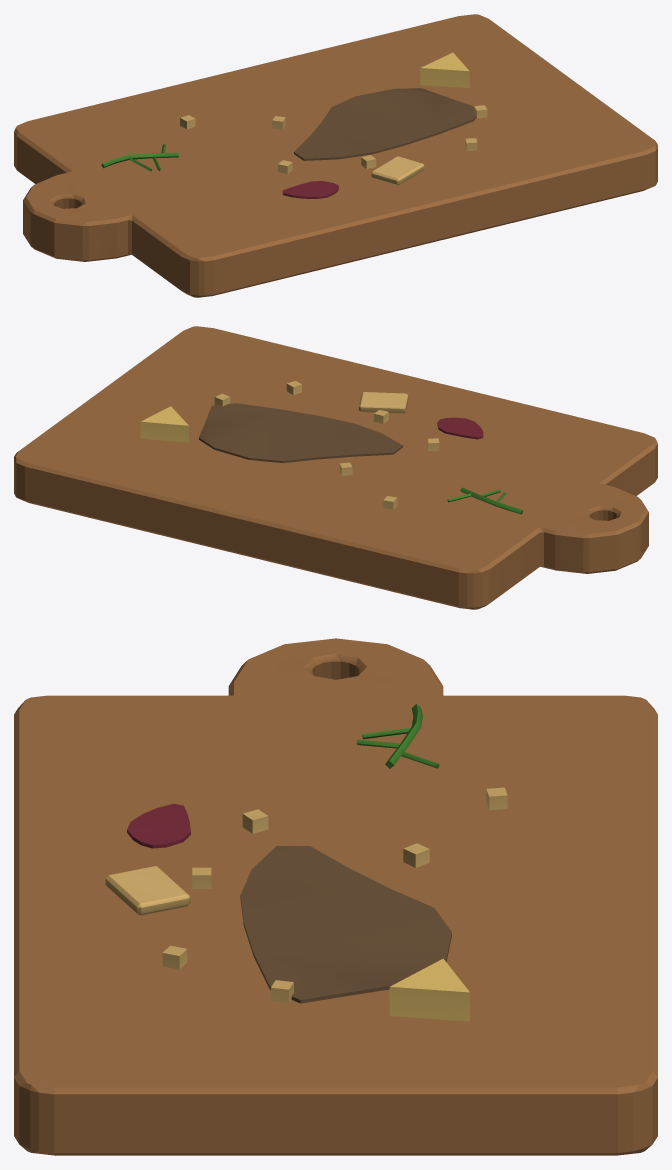
File: boardDirty.glb
The picture shows the model from 3 angles, top to bottom: view 1: azimuth 30°, elevation 25°; view 2: azimuth 150°, elevation 25°; view 3: azimuth 270°, elevation 25°; orthographic projection. The views are drawn at different scales.
Visible parts, largest first — view 1: boardDirty; view 2: boardDirty; view 3: boardDirty.
Part boxes in pixels (<box>): boardDirty: <box>14,14,657,297</box>; boardDirty: <box>14,326,657,609</box>; boardDirty: <box>14,638,657,1155</box>.
Size of the model in its own units: 0.3995 by 0.04 by 0.24.
